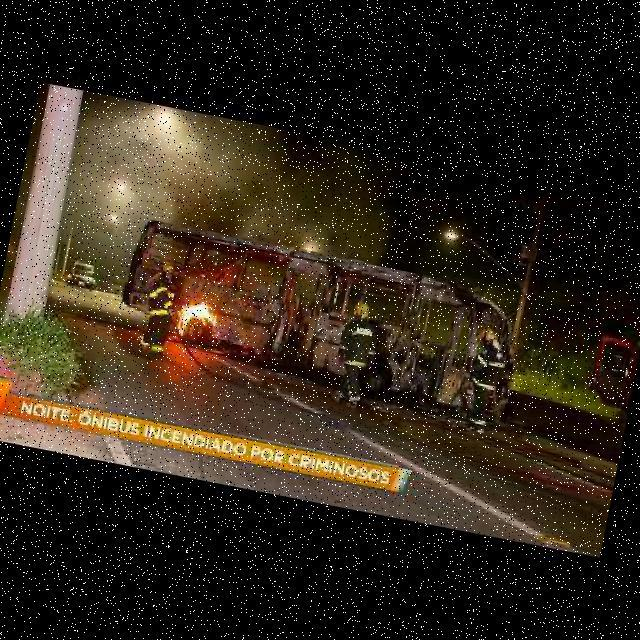Fire: (171, 297, 219, 342)
Smoke: (145, 135, 272, 266)
